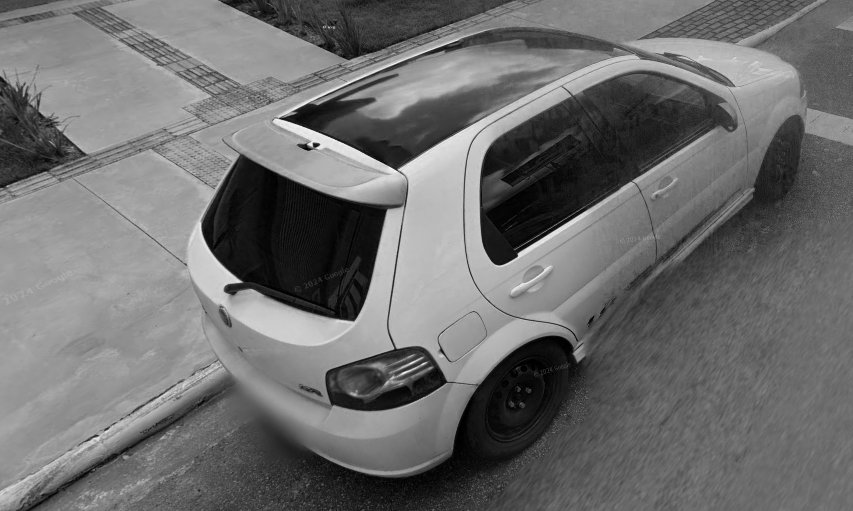car: (184, 23, 809, 480)
